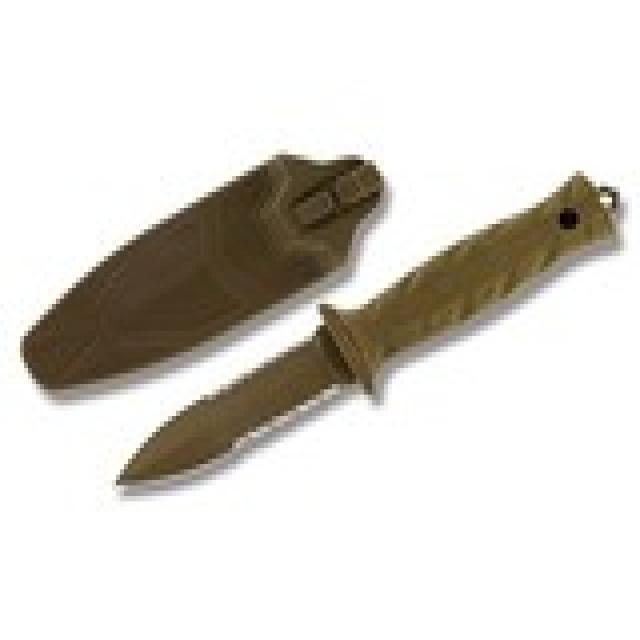Knife: (114, 170, 625, 500)
